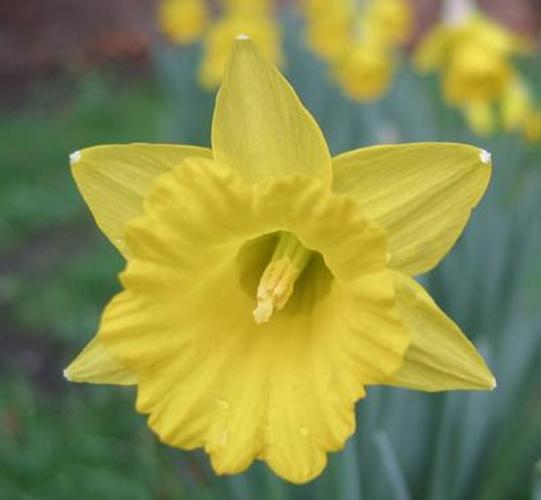flower1: (66, 35, 498, 485)
